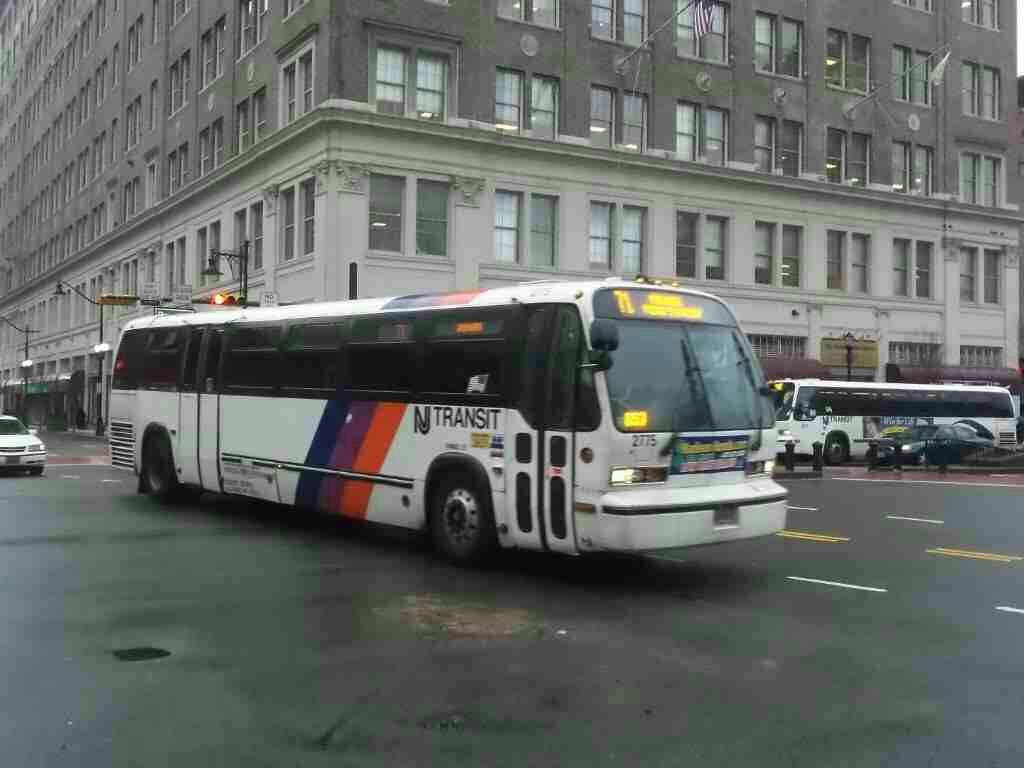cars: (871, 426, 995, 466), (0, 414, 46, 474)
